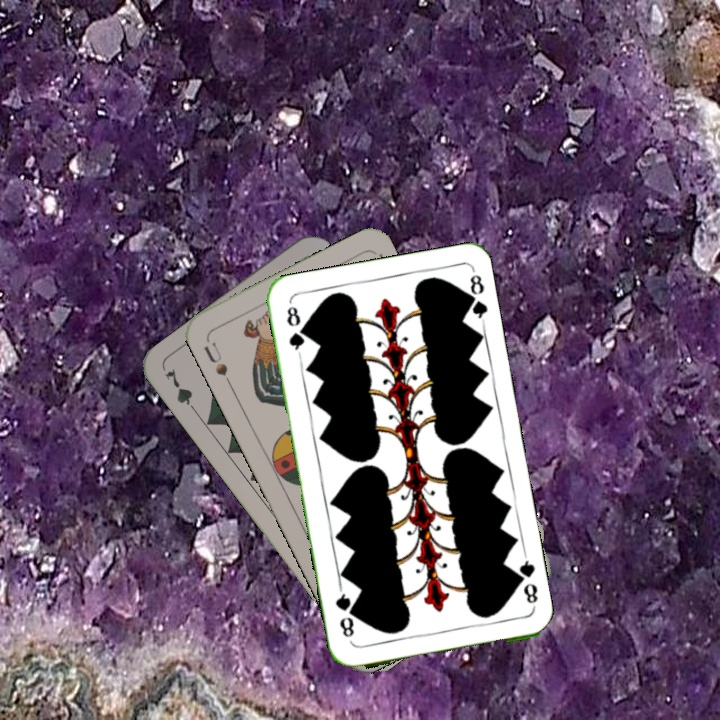G7: (160, 364, 202, 418)
G8: (510, 552, 541, 606), (282, 302, 307, 358)
SU: (200, 335, 235, 390)
